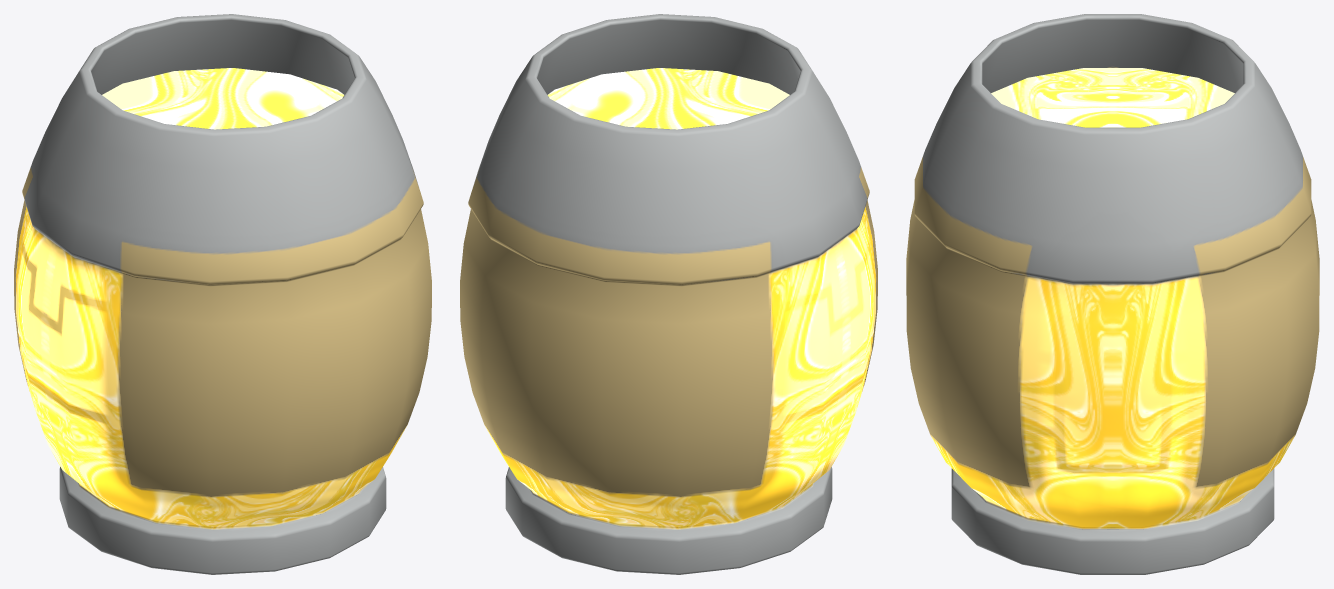
Rendered from BarCocktails01_4.FBX.
The picture shows the model from 3 angles, left to right: view 1: azimuth 30°, elevation 25°; view 2: azimuth 150°, elevation 25°; view 3: azimuth 270°, elevation 25°; orthographic projection.
Parts seen in each view (by area): view 1: BarCocktails01_4; view 2: BarCocktails01_4; view 3: BarCocktails01_4.
Boxes of the visible parts, box(x1,y1,x2,y2) form: BarCocktails01_4: box(14, 14, 431, 574); BarCocktails01_4: box(460, 14, 877, 574); BarCocktails01_4: box(906, 14, 1319, 574).
Size of what is drawn, in the model's own units: 0.1056 by 0.1232 by 0.1058.
